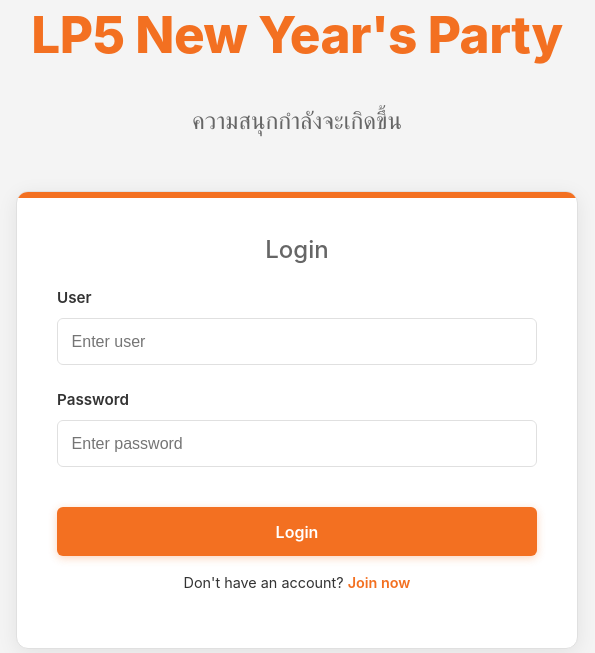
Test: App Component › logs in an existing user
The image size is (595, 653).
Type "bob" into the field with placeholder "Enter user".
click(297, 342); type("bob")  # box [57,318,537,365]
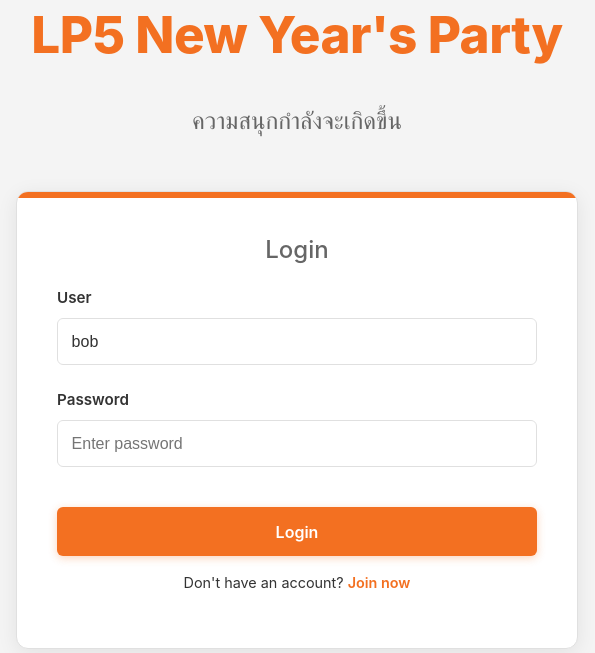
Type "password" into the password field with placeholder "Enter password".
click(297, 444); type("password")  # box [57,420,537,467]
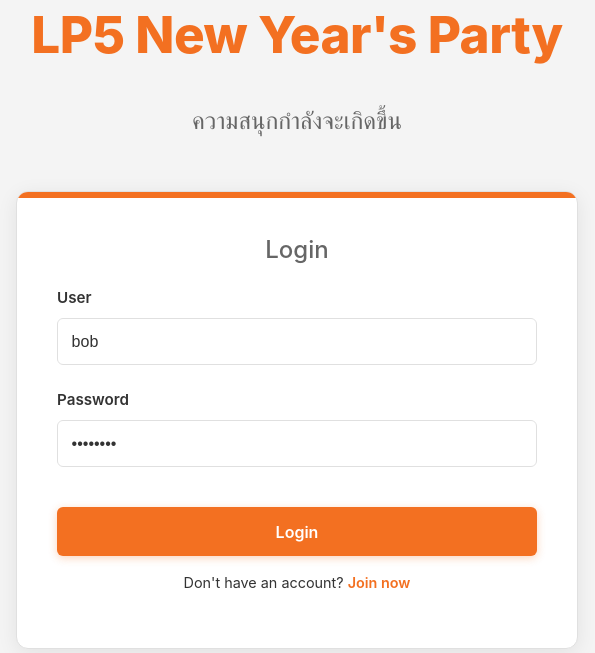
Click the button "Login".
click(297, 532)  # box [57,507,537,556]
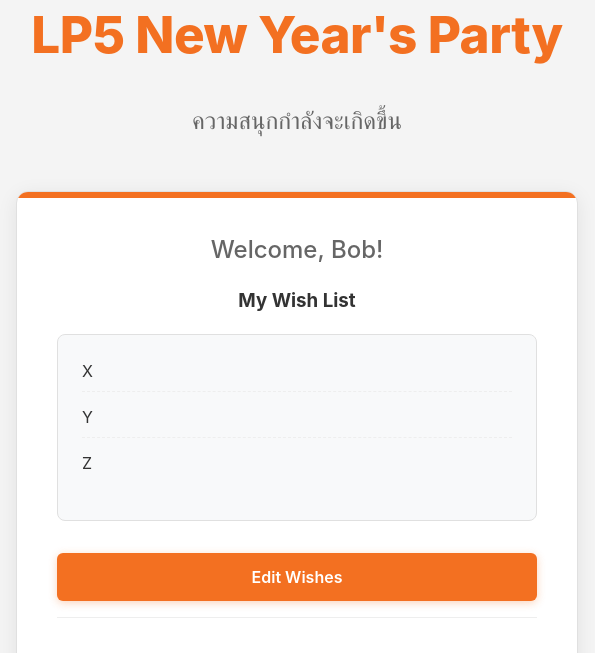
Expected: the heading "Welcome, Bob!" is shown, [211,234,383,264]
